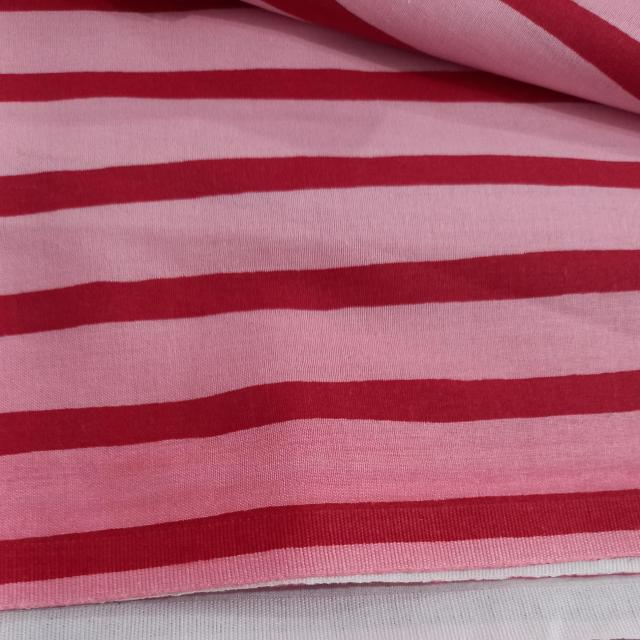color issues: (15, 263, 612, 596)
